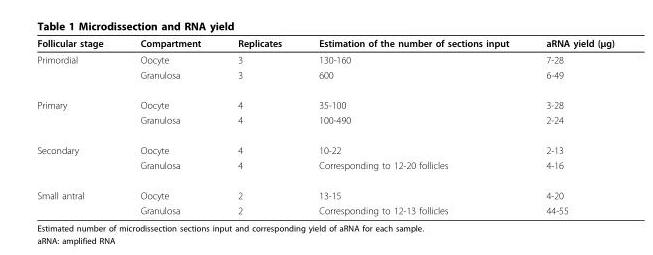table: (36, 37, 613, 215)
table column: (299, 37, 526, 215), (121, 37, 218, 215), (526, 37, 613, 215), (36, 37, 121, 215), (218, 37, 299, 215)
table column header: (36, 37, 613, 51)
table row: (36, 89, 613, 112), (36, 134, 613, 157), (36, 179, 613, 202), (36, 67, 613, 89), (36, 112, 613, 134), (36, 157, 613, 179), (36, 51, 613, 67), (36, 37, 613, 51), (36, 202, 613, 215)
table spanning cell: (36, 89, 121, 134), (36, 134, 121, 179), (36, 51, 121, 89), (36, 179, 121, 215)
